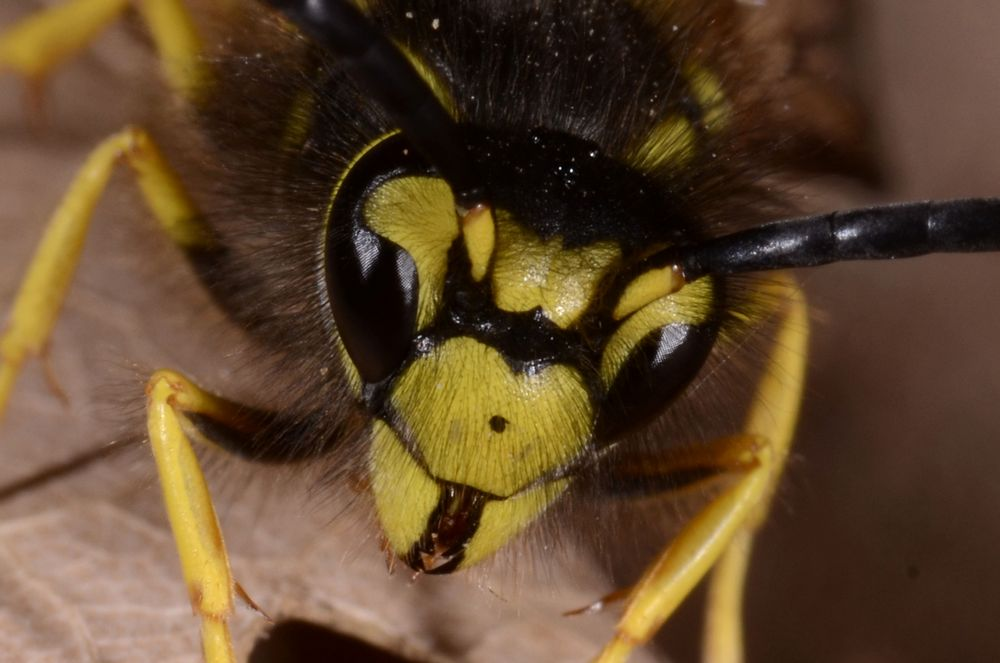chax: (59, 40, 972, 657)
